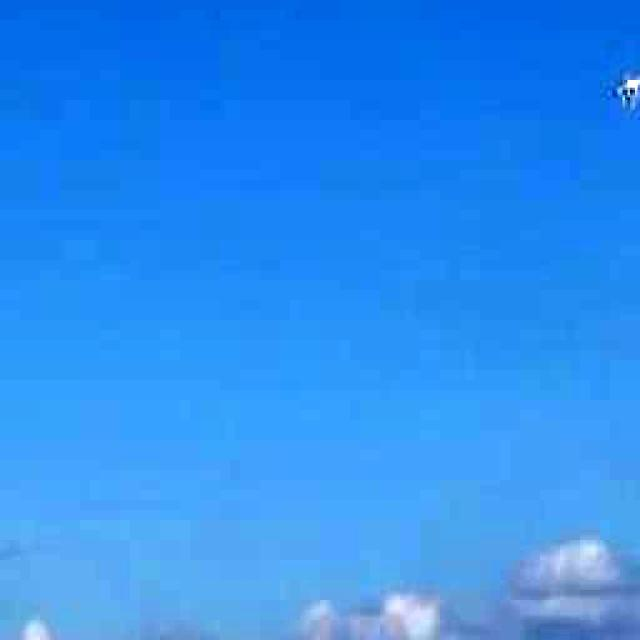bird: (605, 48, 640, 125)
